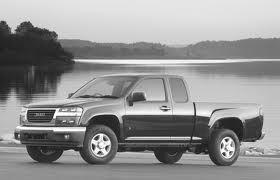car: (13, 72, 265, 163)
